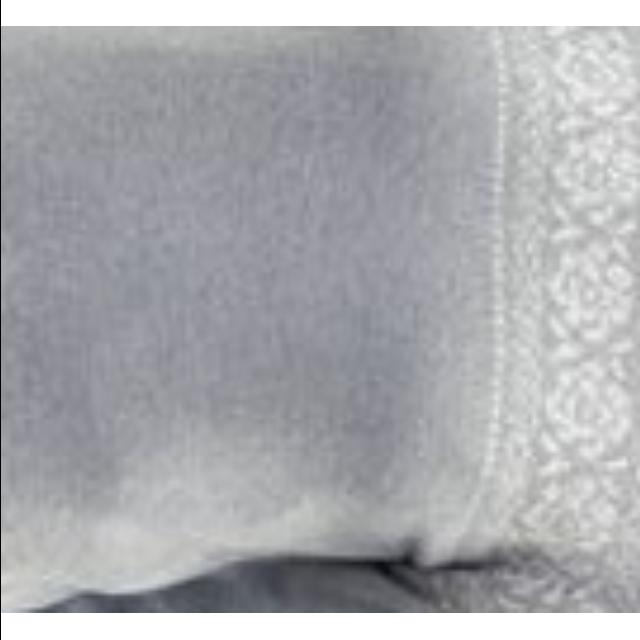wool: (0, 26, 640, 614)
